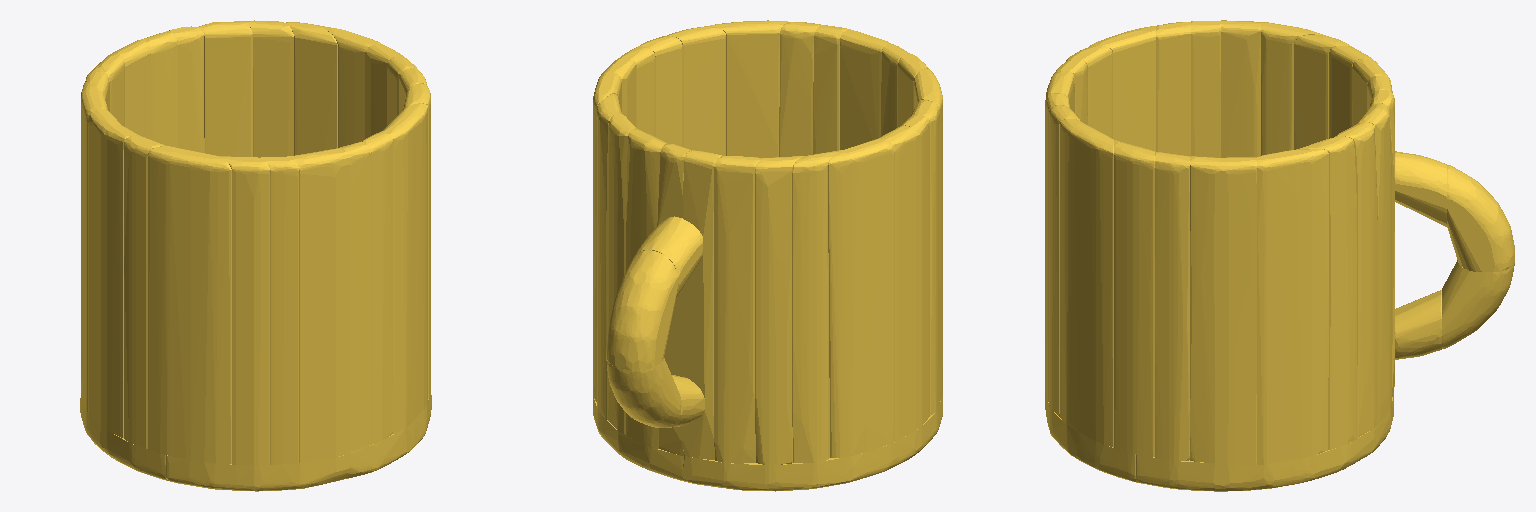
robot.urdf — 432.urdf:
<?xml version="1.0" ?>
<robot name="432.urdf">
	<link name="baseLink">
		<inertial>
			<origin rpy="0 0 0" xyz="0 0 0"/>
				<mass value="0.1"/>
				<inertia ixx="6e-5" ixy="0" ixz="0" iyy="6e-5" iyz="0" izz="6e-5"/>
		</inertial>
		<visual>
			<origin rpy="0 0 0" xyz="0 0 0"/>
			<geometry>
				<mesh filename="3_decom_wt.obj" scale="1.00 1.00 0.84"/>
			</geometry>
			<material name="yellow">
				<color rgba="0.98 0.84 0.35 1"/>
			</material>
		</visual>
		<collision>
			<origin rpy="0 0 0" xyz="0 0 0"/>
			<geometry>
				<mesh filename="3_decom_wt.obj" scale="1.00 1.00 0.84"/>
			</geometry>
		</collision>
	</link>
</robot>

--- What the picture shows (computed from the rendered views, not written in the file) ---
The picture shows the robot from 3 angles, left to right: view 1: azimuth 30°, elevation 25°; view 2: azimuth 150°, elevation 25°; view 3: azimuth 270°, elevation 25°; orthographic projection.
Robot: 432.urdf — 1 links, 0 joints (none); root link baseLink; default pose: every joint at zero.
Visible links, largest first — view 1: baseLink; view 2: baseLink; view 3: baseLink.
Boxes of the visible links, box(x1,y1,x2,y2) form: baseLink: box(80, 20, 431, 491); baseLink: box(593, 20, 942, 491); baseLink: box(1045, 20, 1514, 491).
Bounding box of the posed robot: 0.086 × 0.1154 × 0.0898 m (x, y, z).
Meshes: 1 distinct files referenced, 1 mesh visuals loaded (1 OBJ).